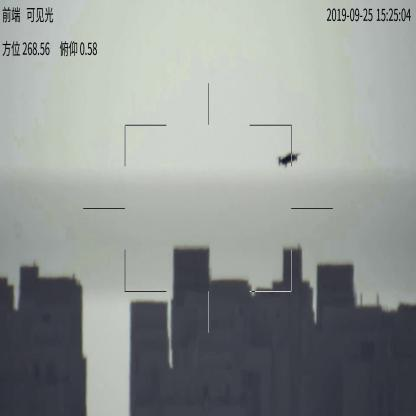uav: (275, 150, 297, 166)
